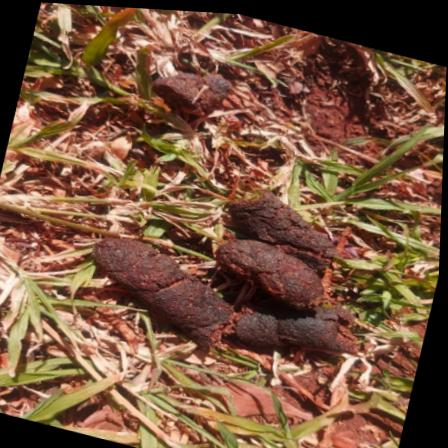dog-poop: (90, 136, 389, 380), (148, 58, 244, 128)
